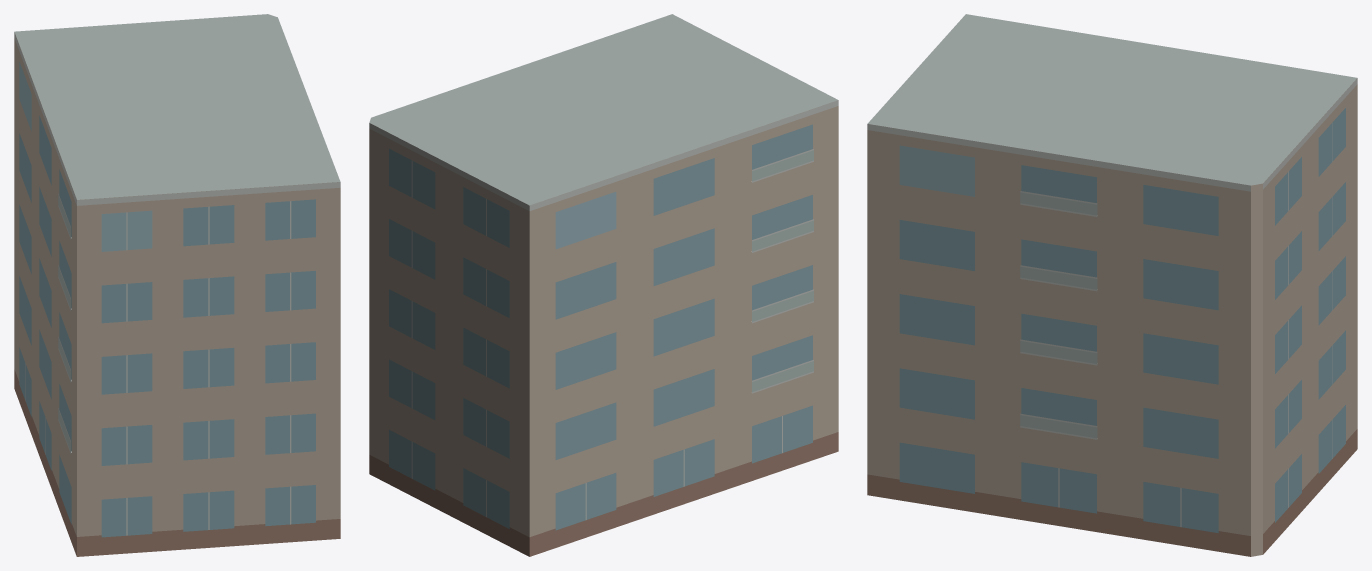
Rendered from survey-upis-32880893.glb.
3 views of the same model, side by side, from view 1: azimuth 30°, elevation 25°; view 2: azimuth 150°, elevation 25°; view 3: azimuth 270°, elevation 25° (orthographic). The views are drawn at different scales.
Visible parts, largest first — view 1: survey-upis-32880893.tmp; view 2: survey-upis-32880893.tmp; view 3: survey-upis-32880893.tmp.
Part boxes in pixels (<box>): survey-upis-32880893.tmp: <box>14,14,340,556</box>; survey-upis-32880893.tmp: <box>369,14,838,556</box>; survey-upis-32880893.tmp: <box>867,14,1357,556</box>.
Bounding box in the file's own units: 14.67 × 14.8 × 17.72.
